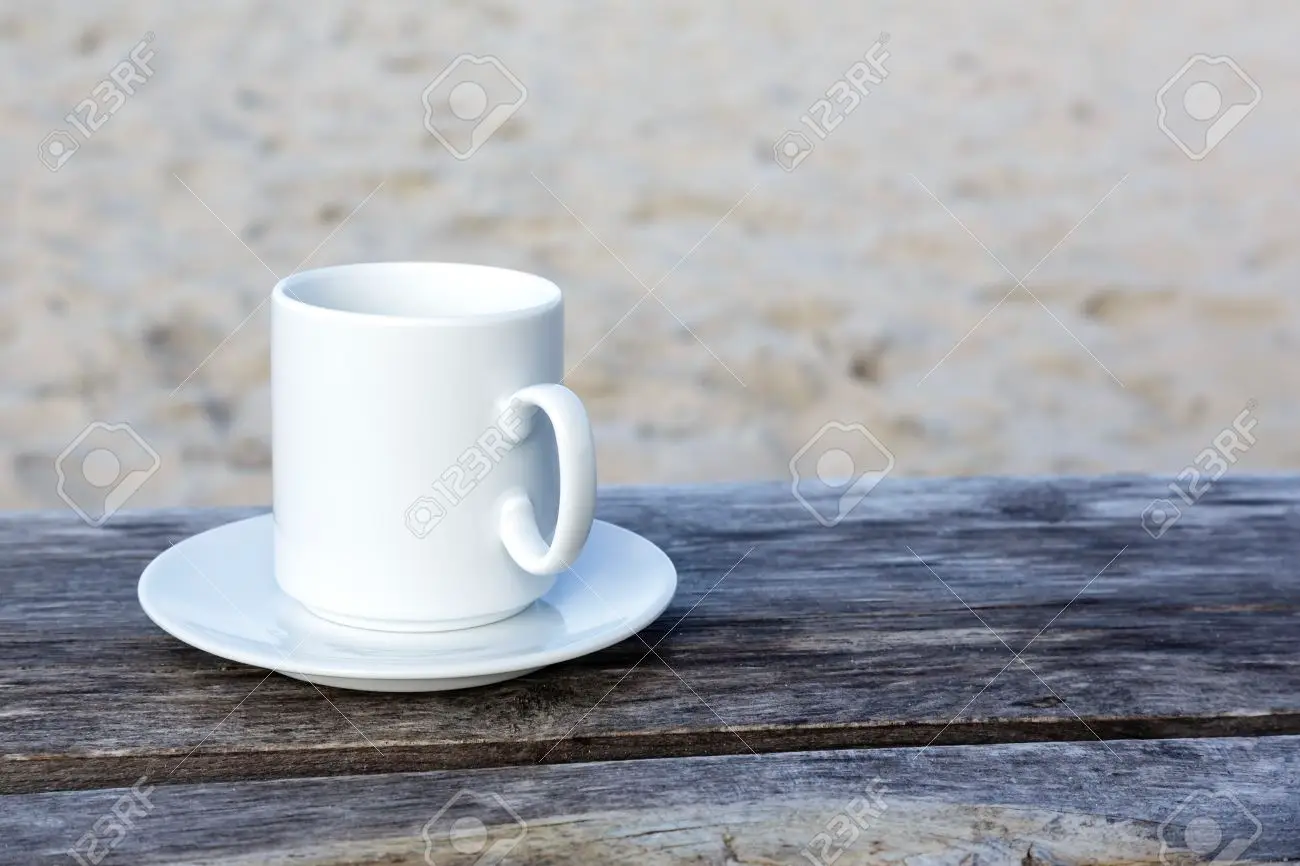cup: (110, 251, 681, 692)
